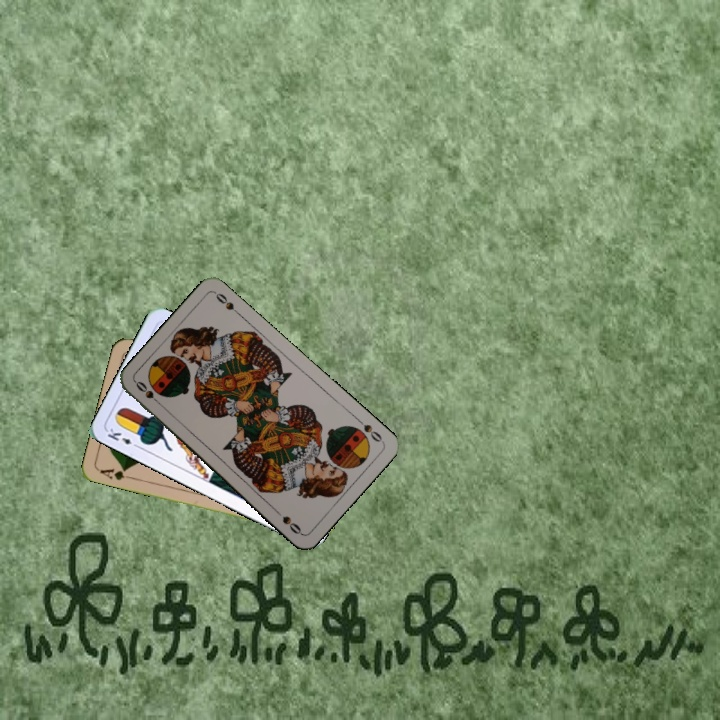EK: (103, 424, 142, 451)
GA: (96, 464, 136, 483)
SO: (132, 377, 165, 409), (352, 414, 386, 445)
